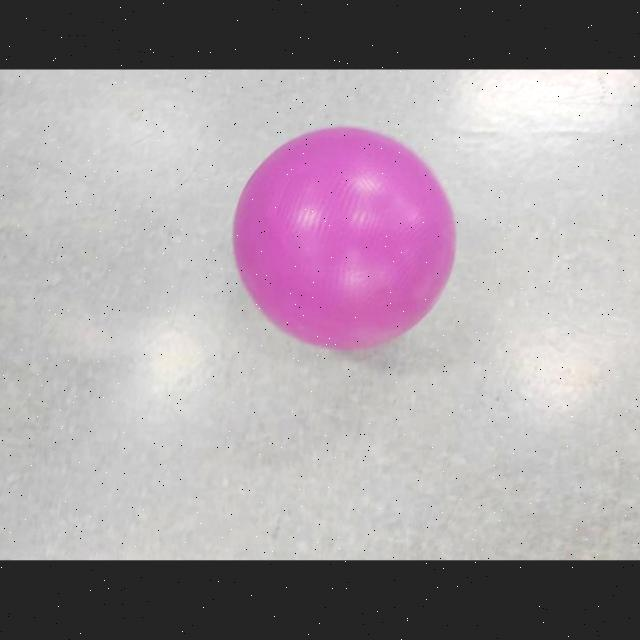P: (225, 123, 465, 355)
